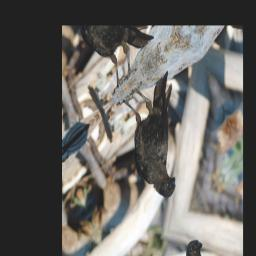Crow: (110, 58, 206, 215)
